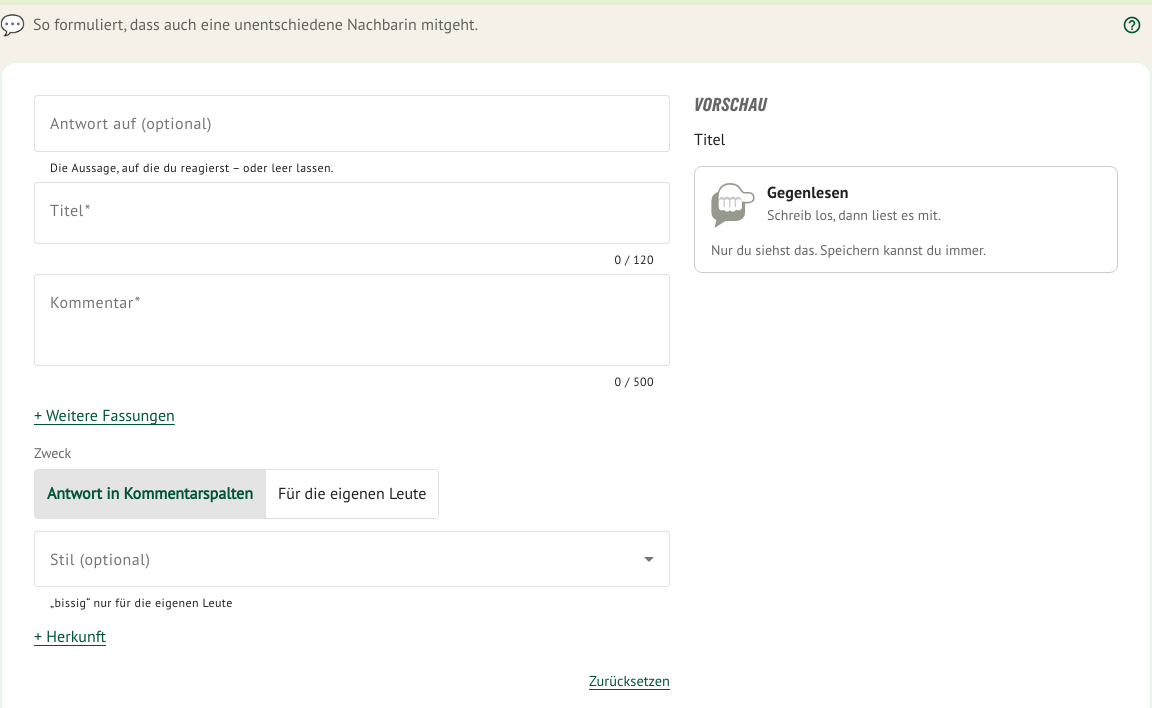
Test: AddCommentaryComponent › Aufbau › zeigt die Qualitaetszeile mit dem ?, anfangs zugeklappt
expect the text with class "hilfe-zeile" reads "So formuliert, dass auch eine unentschiedene Nachbarin mitgeht.": met, box [33, 16, 478, 34]
Click the button with class "erklaerung-umschalter". click: (1132,25)
box: [1112, 5, 1151, 45]
(page scrolled)
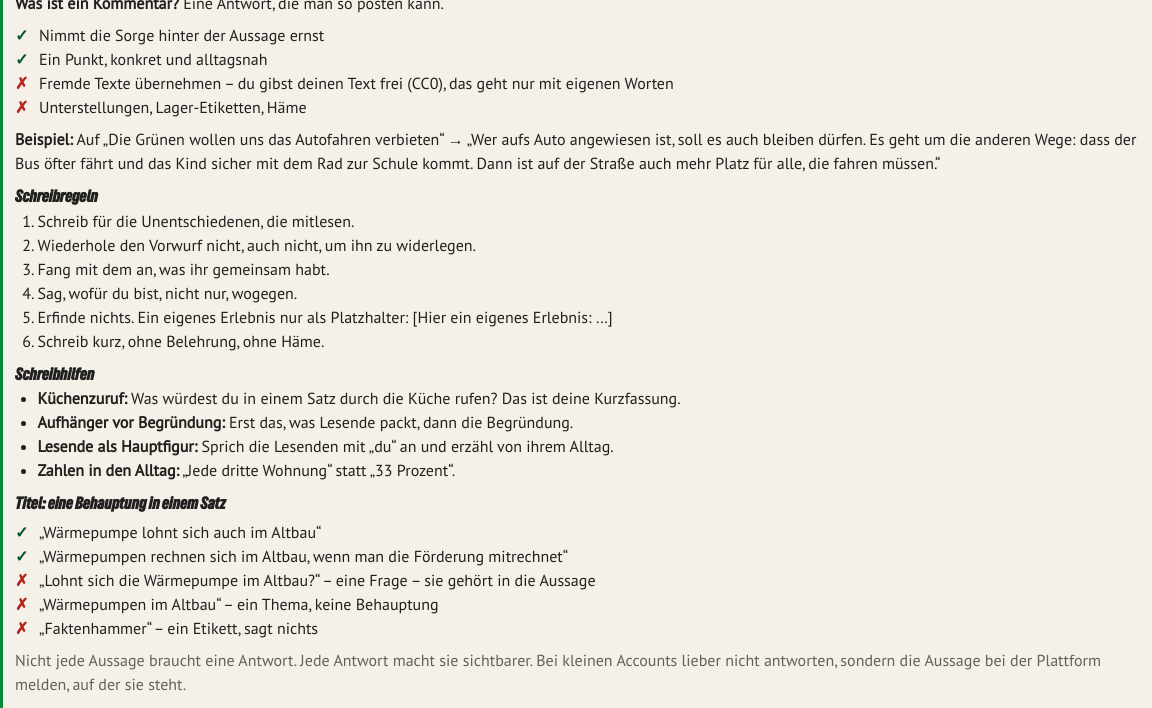
expect the element with class "hilfe-panel" shows "Nimmt die Sorge hinter der Aussage ernst": met, box [39, 27, 324, 45]
